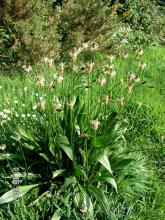buckhorn plantain: (8, 42, 139, 206)
